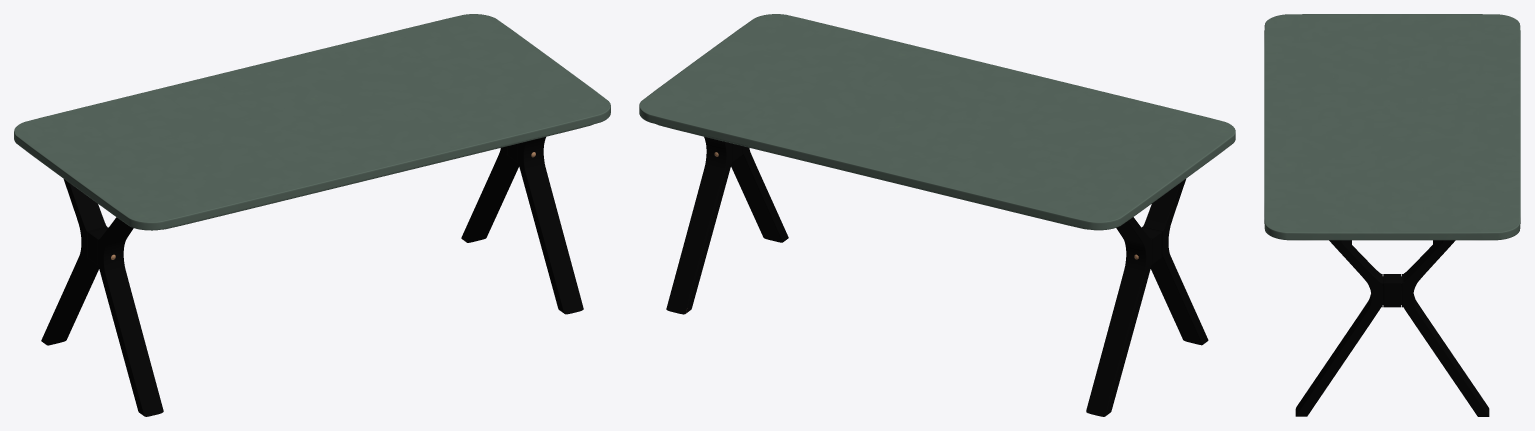
3 views of the same model, side by side, from view 1: azimuth 30°, elevation 25°; view 2: azimuth 150°, elevation 25°; view 3: azimuth 270°, elevation 25° (orthographic). The views are drawn at different scales.
Bounding box in the file's own units: 1.78 × 0.7357 × 0.8799.
Materials: 2 (2 with a texture image).
